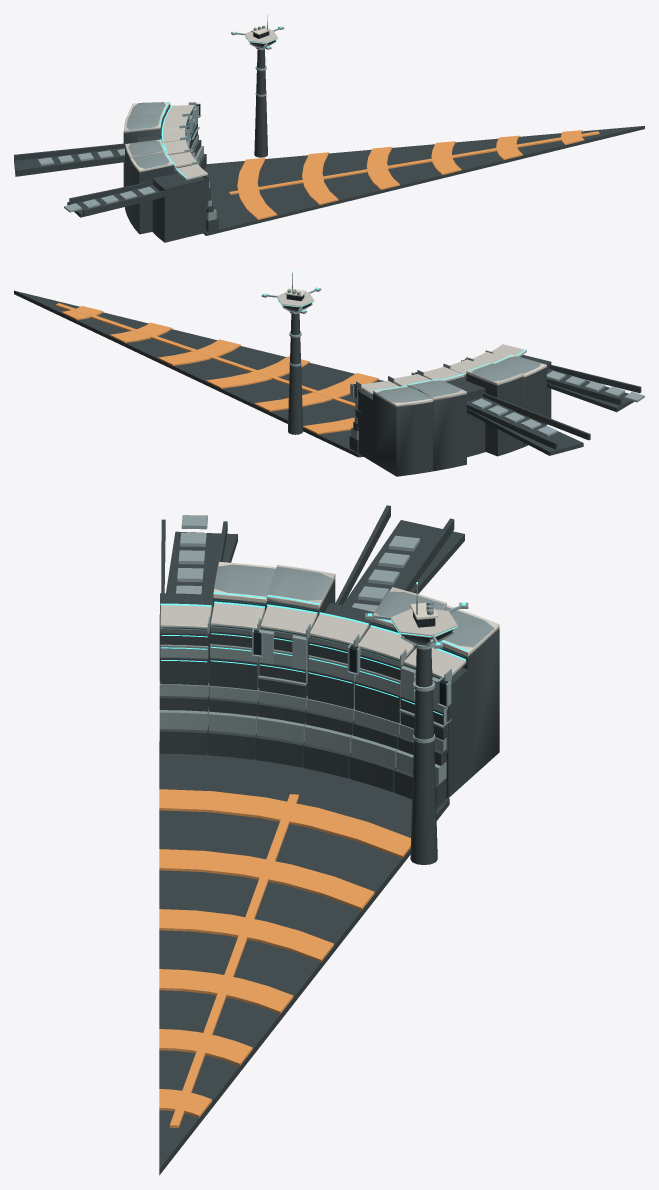
The model's file is Weather_Lung_Sector_05.glb.
The picture shows the model from 3 angles, top to bottom: view 1: azimuth 30°, elevation 25°; view 2: azimuth 150°, elevation 25°; view 3: azimuth 270°, elevation 25°; orthographic projection. The views are drawn at different scales.
Visible parts, largest first — view 1: Weather_Lung_Sector_05; view 2: Weather_Lung_Sector_05; view 3: Weather_Lung_Sector_05.
Part boxes in pixels (x1,y1,x2,y2): Weather_Lung_Sector_05: (14,14,644,242); Weather_Lung_Sector_05: (14,271,644,476); Weather_Lung_Sector_05: (159,505,499,1175).
Bounding box in the file's own units: 12964 × 3117 × 3342.
